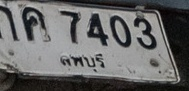txt03: (20, 5, 52, 43)
